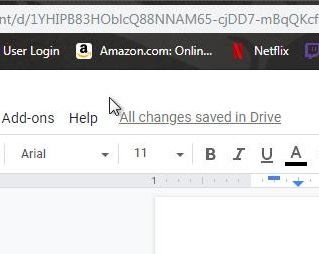cursor: (106, 93, 123, 119)
